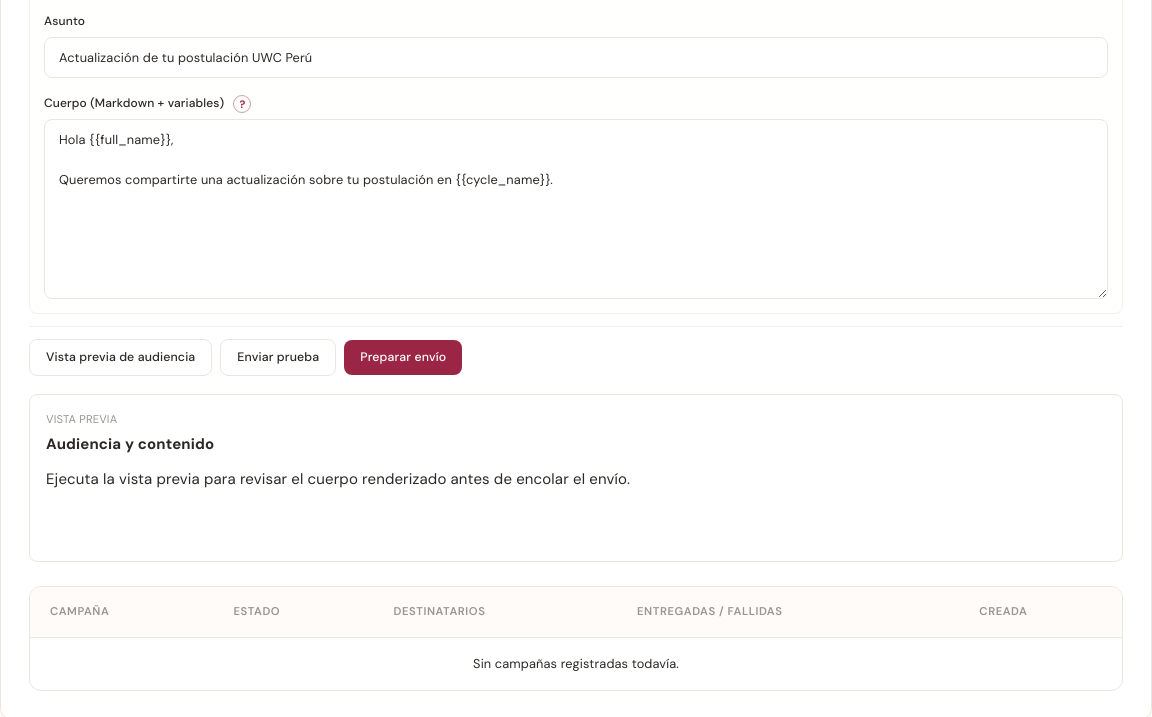
Test case: AdminCommunicationsCenter › blocks confirmation when prepare-send detects a deduplicated campaign
(page scrolled)
Click the button "Preparar envío" at x=403, y=358, box [344, 340, 462, 375]
(page scrolled)
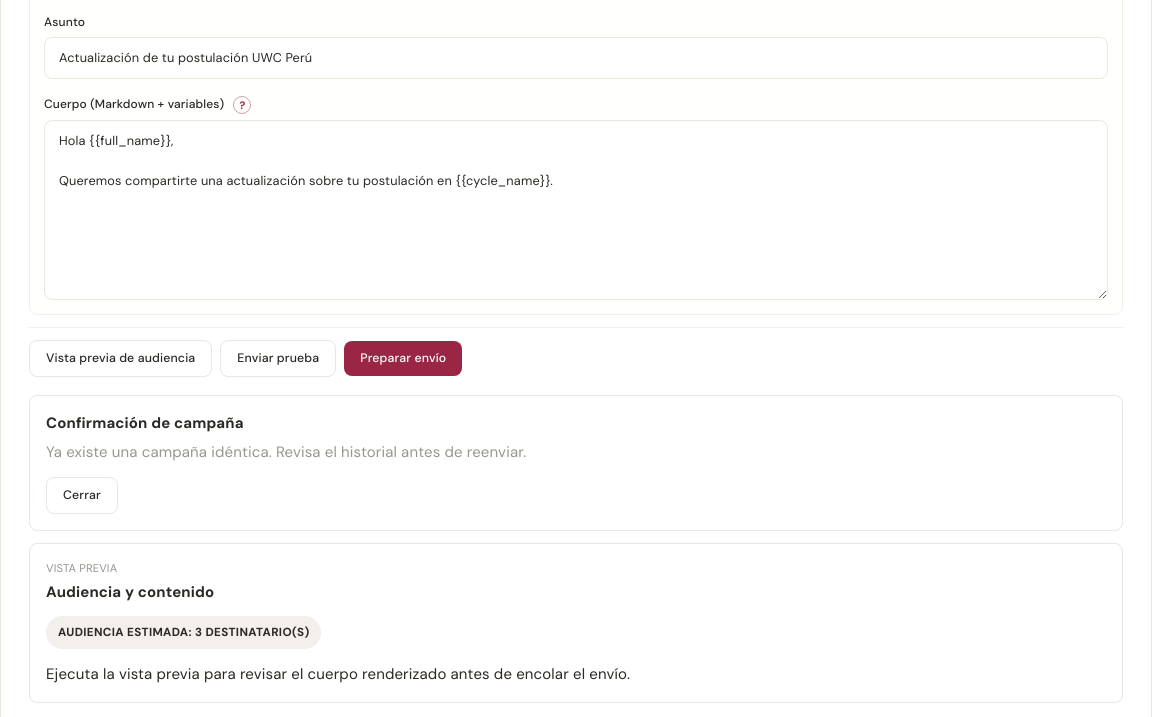
Expected: the text "Ya existe una campaña idéntica. Revisa el historial antes de reenviar." is shown, [46, 442, 526, 462]
